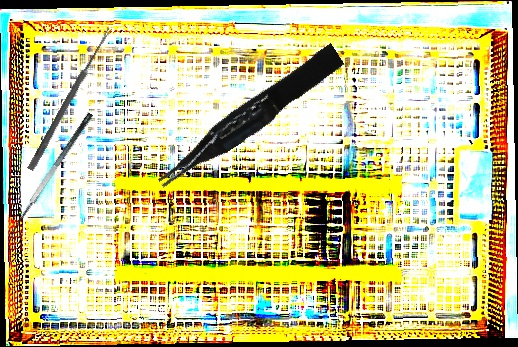Spatula Surgical: (3, 111, 104, 244)
Surgical Spoon: (27, 26, 113, 172)
Tissue Forceps: (147, 43, 350, 192)
